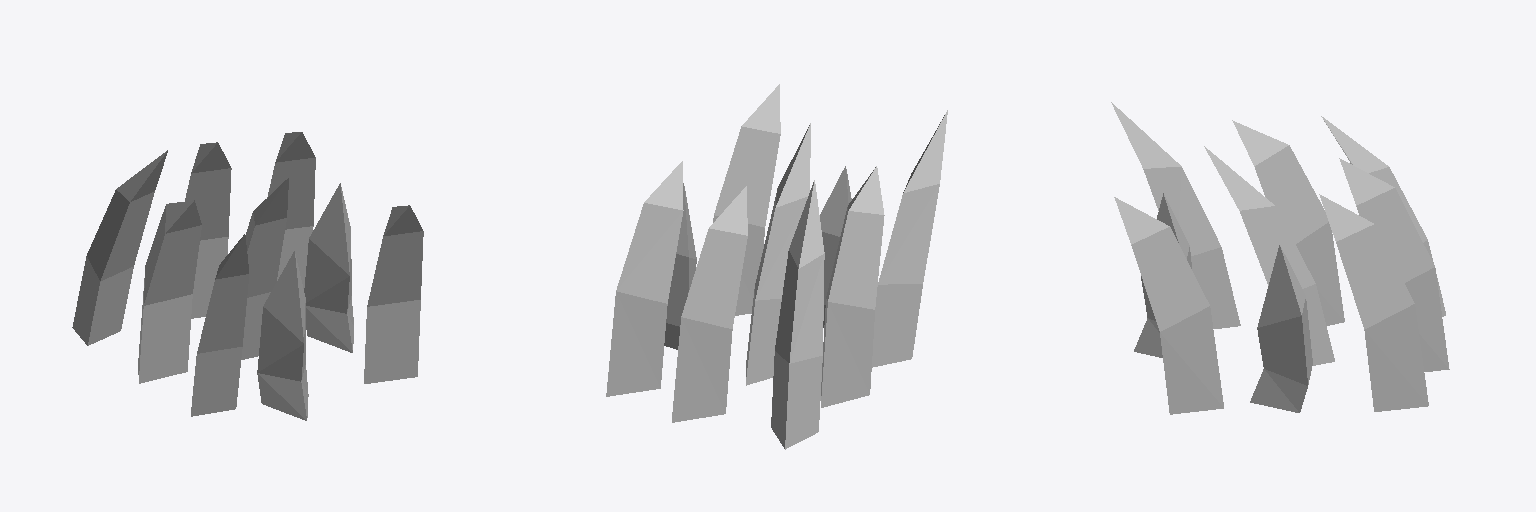
File: grass_2.obj
3 views of the same model, side by side, from view 1: azimuth 30°, elevation 25°; view 2: azimuth 150°, elevation 25°; view 3: azimuth 270°, elevation 25° (orthographic).
Parts seen in each view (by area): view 1: GrassBunch7; view 2: GrassBunch7; view 3: GrassBunch7.
Part boxes in pixels (x1,y1,x2,y2): GrassBunch7: (72,132,423,420); GrassBunch7: (606,84,947,449); GrassBunch7: (1111,102,1449,414).
Bounding box in the file's own units: 1.17 × 1.1 × 1.56.